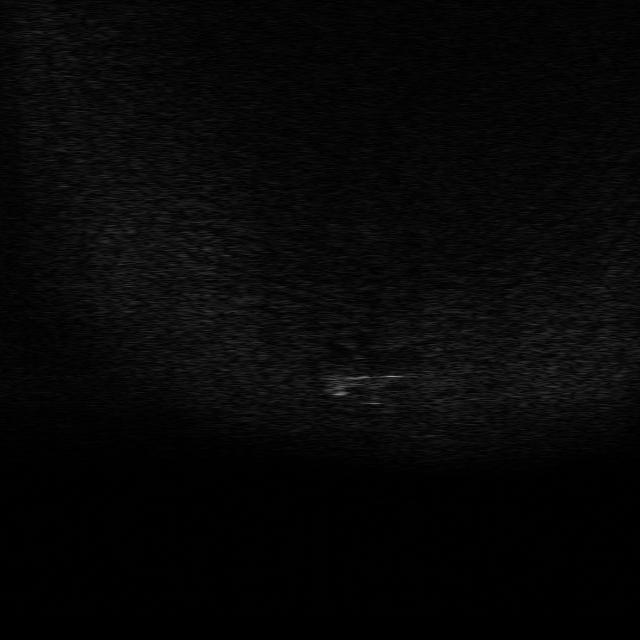plane: (314, 363, 406, 395)
